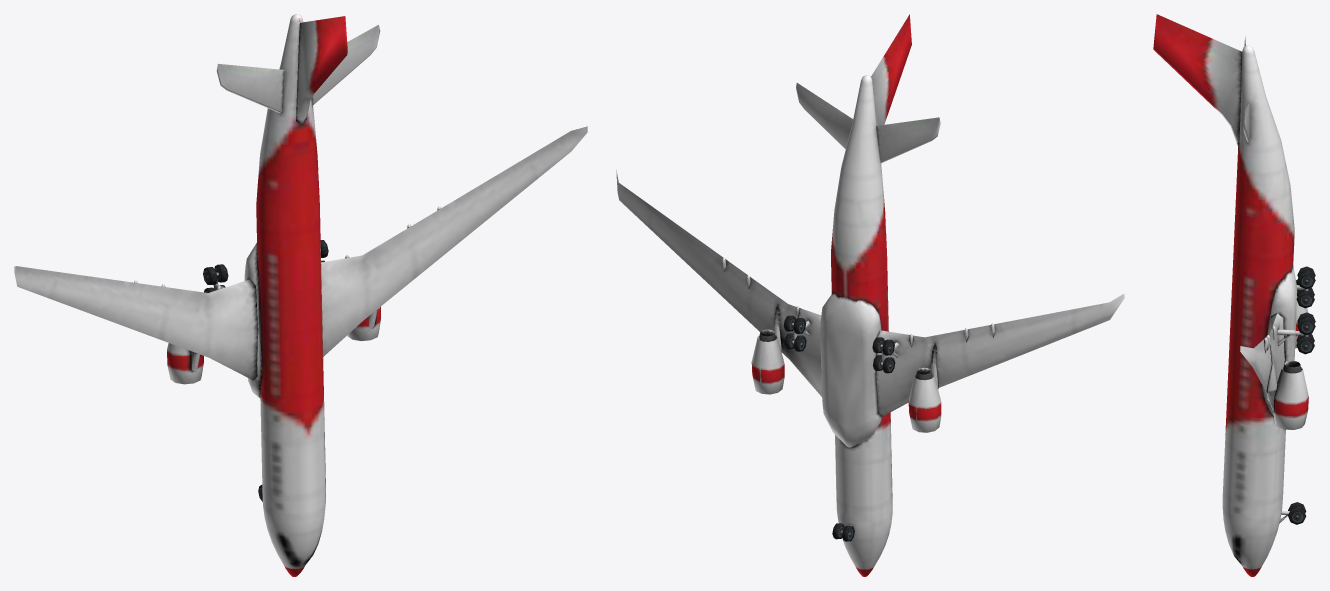
The model's file is airbus.fbx.
3 renders of one model, left to right at view 1: azimuth 30°, elevation 25°; view 2: azimuth 150°, elevation 25°; view 3: azimuth 270°, elevation 25°, orthographic. The views are drawn at different scales.
Parts seen in each view (by area): view 1: airbus 1; view 2: airbus 1; view 3: airbus 1.
Part boxes in pixels (x1,y1,x2,y2): airbus 1: (14,14,587,576); airbus 1: (616,14,1124,576); airbus 1: (1153,14,1315,576).
Size of the model in its own units: 82.62 by 82.34 by 21.54.
1 material, 1 textured.
